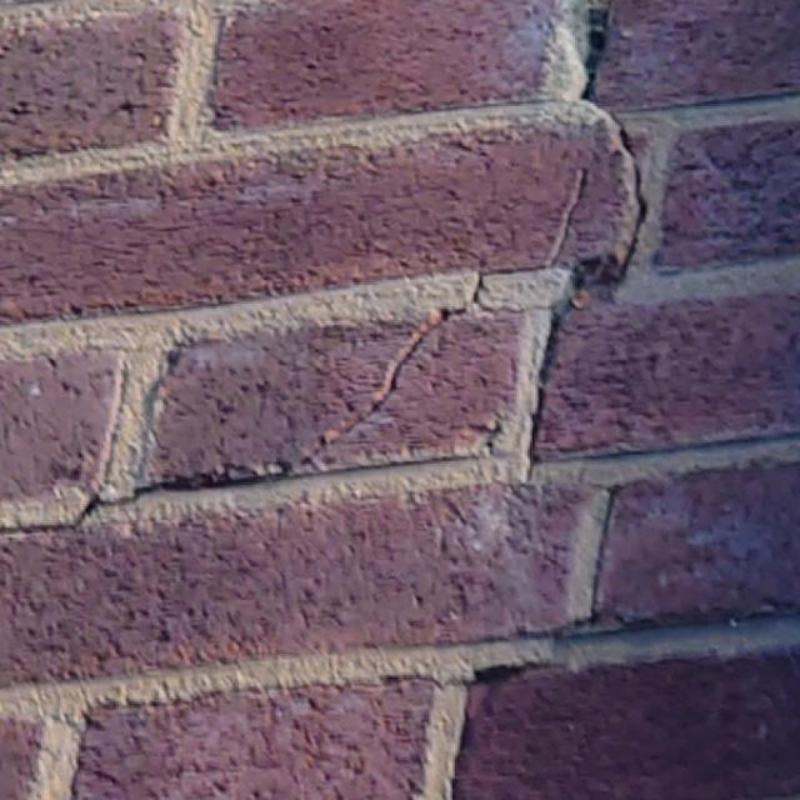pothole: (533, 112, 647, 462), (302, 309, 448, 459), (447, 169, 589, 318), (521, 488, 620, 638), (0, 484, 161, 532), (583, 1, 611, 102), (429, 666, 527, 689)
